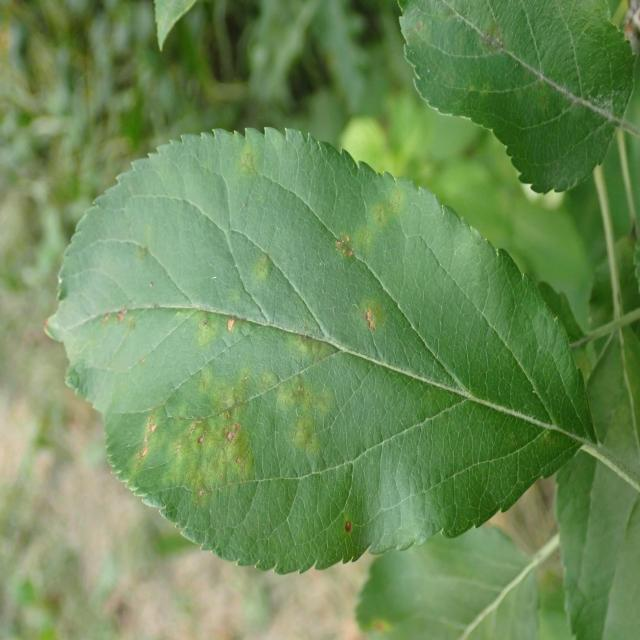scab: (80, 88, 544, 575), (413, 0, 602, 156)
